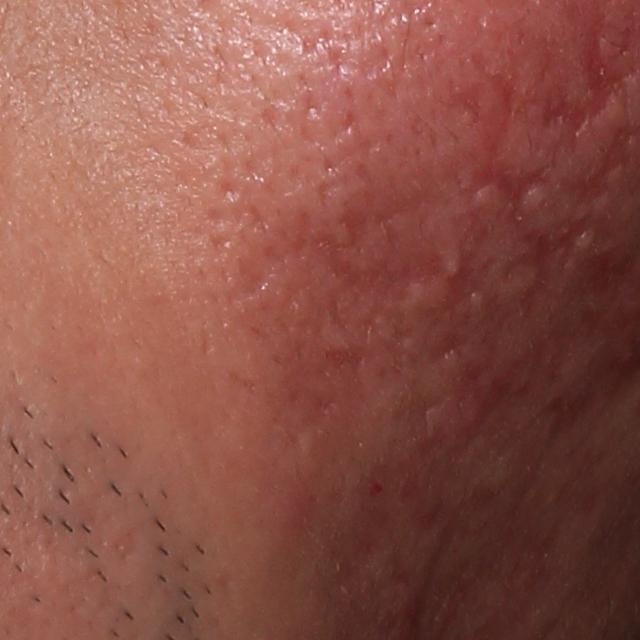atrophic_scar: (308, 201, 445, 301), (466, 72, 552, 227), (541, 18, 636, 132), (502, 214, 594, 320), (424, 215, 490, 329)
hypertrophic_scar: (470, 183, 510, 212), (521, 184, 551, 216), (440, 251, 463, 280)
